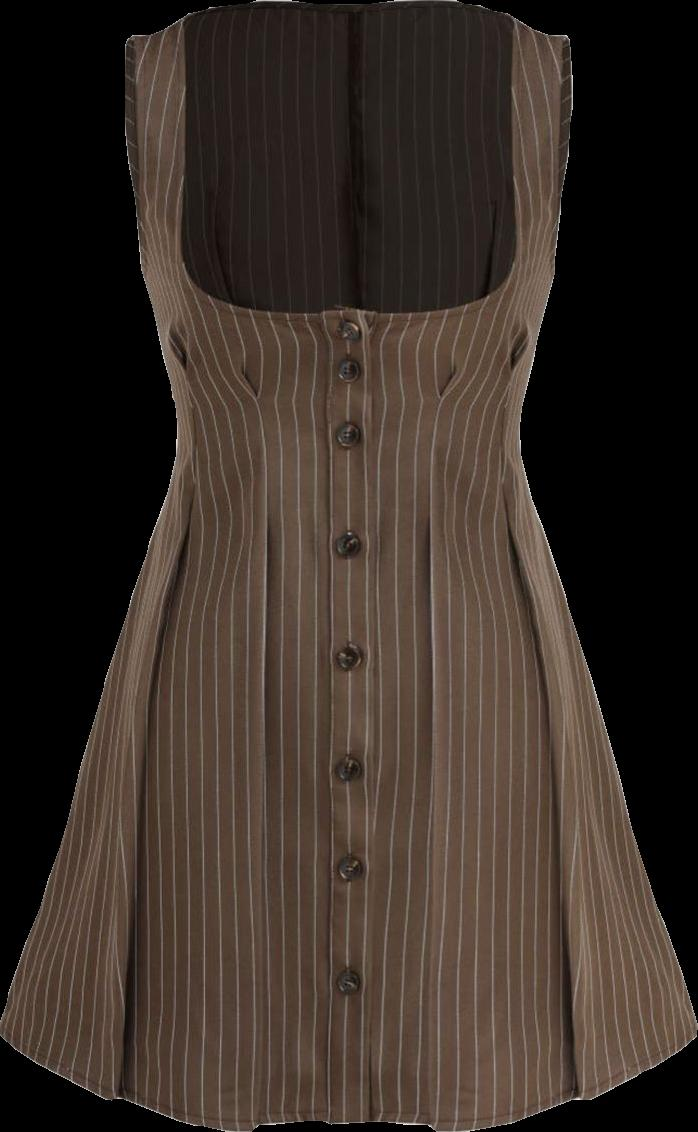Bodice: (124, 1, 572, 458)
Hemline: (0, 1018, 697, 1131)
Neckline: (177, 17, 525, 320)
Skirt: (0, 459, 696, 1131)
